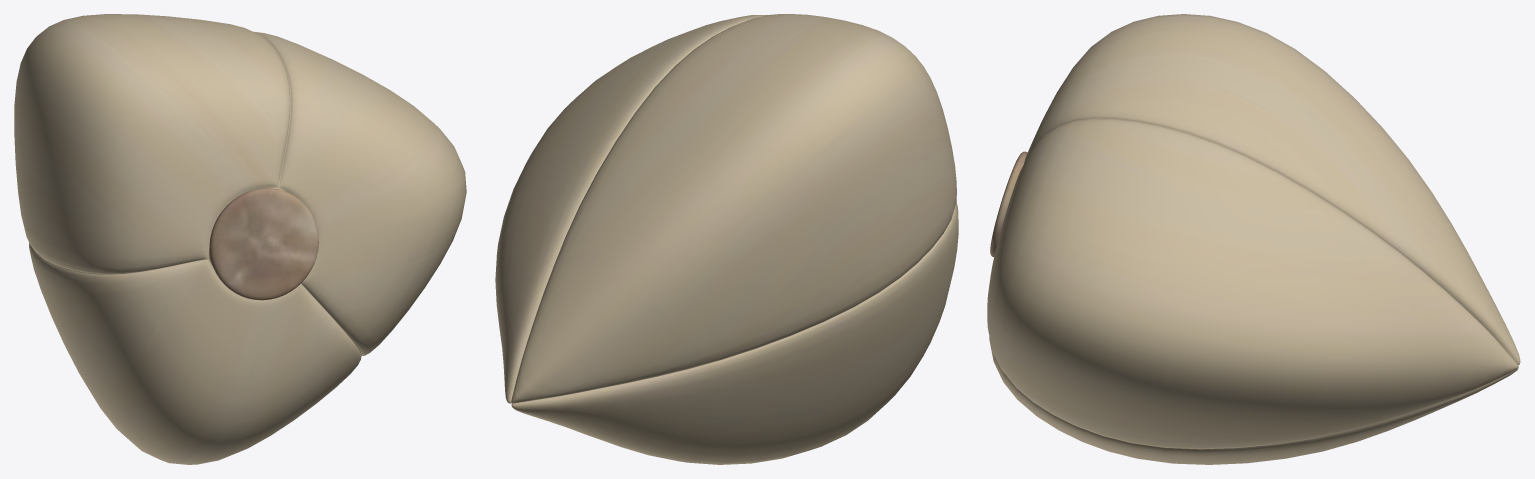
File: GrainBuckwheat035.obj
3 views of the same model, side by side, from view 1: azimuth 30°, elevation 25°; view 2: azimuth 150°, elevation 25°; view 3: azimuth 270°, elevation 25° (orthographic). The views are drawn at different scales.
Parts seen in each view (by area): view 1: GrainBuckwheat035; view 2: GrainBuckwheat035; view 3: GrainBuckwheat035.
Part boxes in pixels (bbox=[...]): GrainBuckwheat035: bbox=[14, 14, 466, 464]; GrainBuckwheat035: bbox=[495, 14, 958, 464]; GrainBuckwheat035: bbox=[987, 14, 1520, 464].
Size of the model in its own units: 0.0254 by 0.0263 by 0.0313.
Materials: 1 (1 with a texture image).
